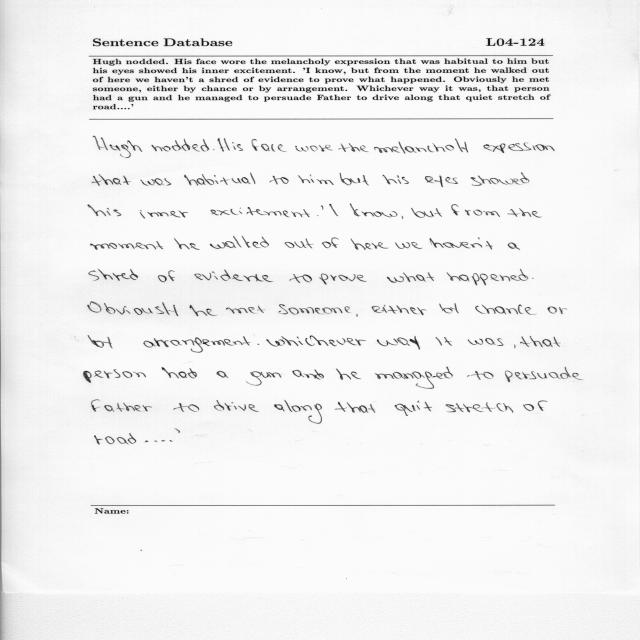word: (143, 336, 251, 353), (375, 367, 453, 389), (374, 138, 468, 154), (447, 269, 528, 285), (88, 302, 178, 316), (505, 367, 583, 382), (274, 400, 322, 424), (266, 336, 366, 347), (93, 136, 142, 158), (195, 269, 273, 282), (210, 207, 310, 217), (184, 173, 255, 186), (84, 369, 146, 383), (430, 237, 493, 250), (278, 304, 351, 315), (483, 142, 555, 153), (471, 173, 530, 186), (210, 236, 269, 249), (151, 139, 209, 152), (92, 400, 152, 412), (475, 304, 536, 315), (446, 403, 513, 413), (91, 241, 164, 250), (451, 204, 500, 217), (350, 204, 397, 217), (89, 269, 138, 281), (394, 401, 432, 416), (377, 336, 420, 349), (372, 305, 426, 315), (214, 400, 259, 412), (319, 274, 367, 285), (247, 371, 282, 386), (387, 272, 434, 283), (92, 174, 131, 186), (95, 433, 137, 444), (252, 139, 286, 152), (520, 336, 560, 347), (335, 402, 375, 413), (140, 210, 188, 219), (351, 239, 388, 250), (425, 175, 458, 187), (88, 205, 121, 217), (161, 367, 197, 378), (339, 173, 369, 186), (298, 174, 333, 185), (507, 208, 542, 218), (218, 138, 243, 151), (88, 336, 113, 349), (292, 370, 324, 380), (174, 238, 200, 250), (411, 208, 442, 218), (284, 239, 314, 249), (336, 368, 361, 380), (190, 305, 217, 316), (468, 338, 504, 346), (523, 400, 548, 411), (226, 307, 265, 314), (295, 145, 333, 152), (141, 178, 172, 186), (338, 144, 368, 152), (383, 175, 409, 184), (467, 371, 493, 380), (174, 403, 200, 412), (289, 274, 312, 283), (158, 271, 175, 283), (439, 303, 459, 313), (395, 242, 422, 249), (322, 238, 339, 249), (269, 176, 289, 184), (435, 337, 452, 346), (548, 306, 567, 314), (329, 204, 338, 216), (508, 243, 520, 250), (217, 371, 229, 378), (145, 440, 165, 442), (175, 429, 180, 433), (321, 205, 324, 210), (401, 216, 403, 219), (514, 345, 516, 348), (170, 440, 173, 442), (356, 314, 358, 316), (213, 149, 215, 150), (532, 278, 534, 279), (258, 344, 260, 345), (317, 215, 318, 216)
